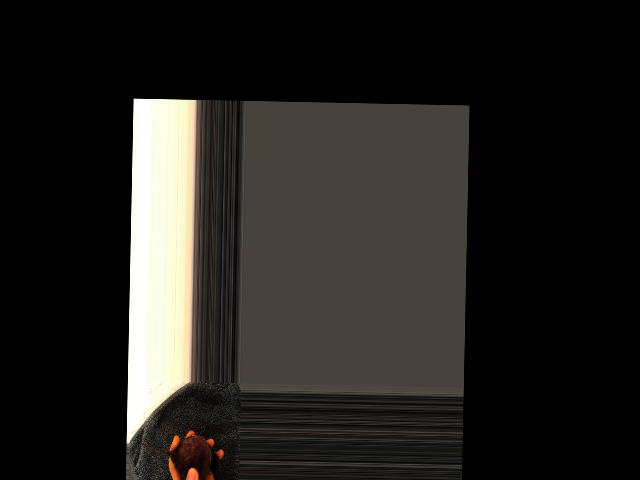beet: (139, 433, 217, 480)
